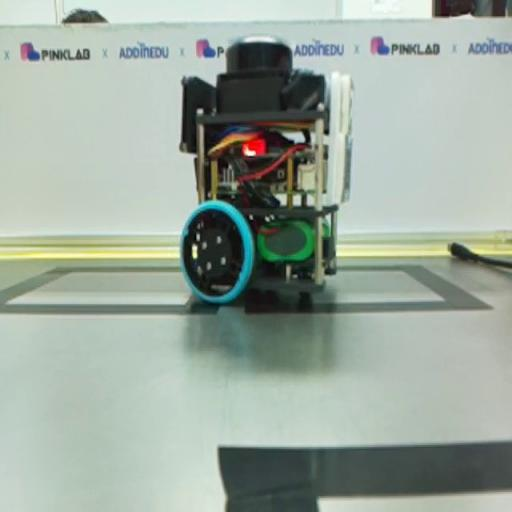pinky_63: (179, 35, 353, 304)
